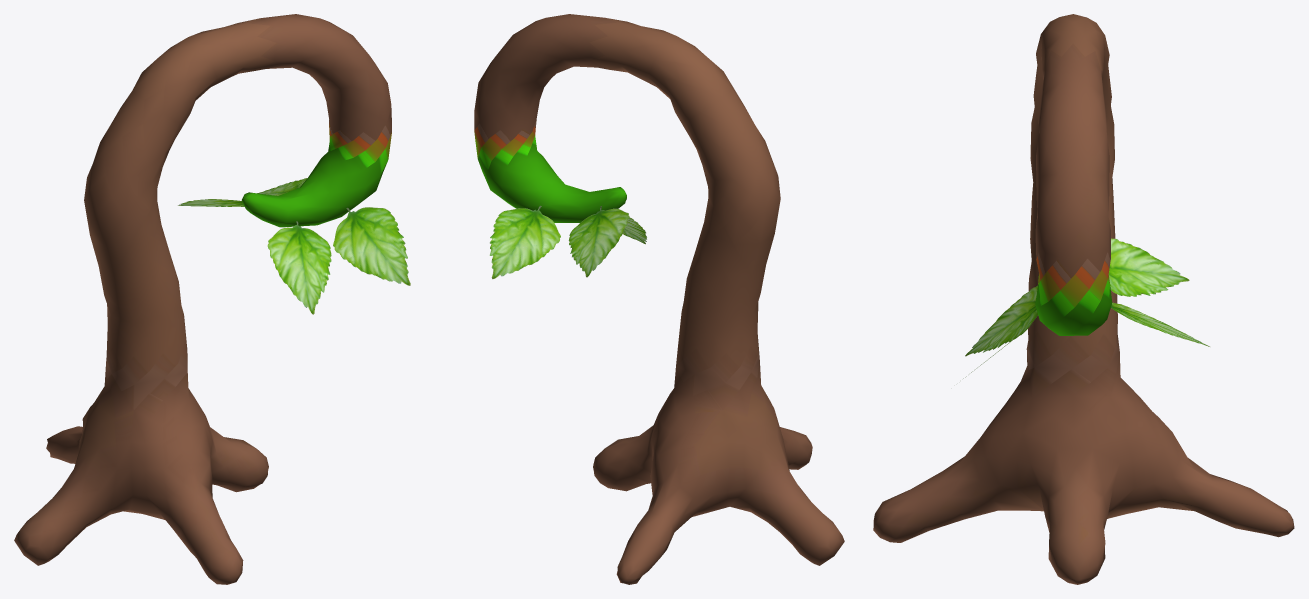
The model's file is Generic_Young_plant.fbx.
3 renders of one model, left to right at view 1: azimuth 30°, elevation 25°; view 2: azimuth 150°, elevation 25°; view 3: azimuth 270°, elevation 25°, orthographic. The views are drawn at different scales.
Visible parts, largest first — view 1: young_generic_plant, genericLeaf; view 2: young_generic_plant, genericLeaf; view 3: young_generic_plant, genericLeaf.
Boxes of the visible parts, x1,y1,x2,y2 form: young_generic_plant: (14,14,391,584); genericLeaf: (178,178,410,314); young_generic_plant: (474,14,844,584); genericLeaf: (489,205,646,279); young_generic_plant: (873,14,1294,584); genericLeaf: (963,238,1209,378).
Bounding box in the file's own units: 109 × 140 × 94.22.
